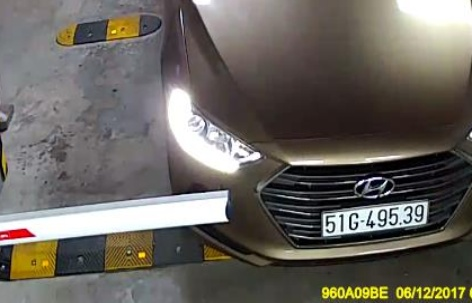plate: (319, 201, 432, 236)
